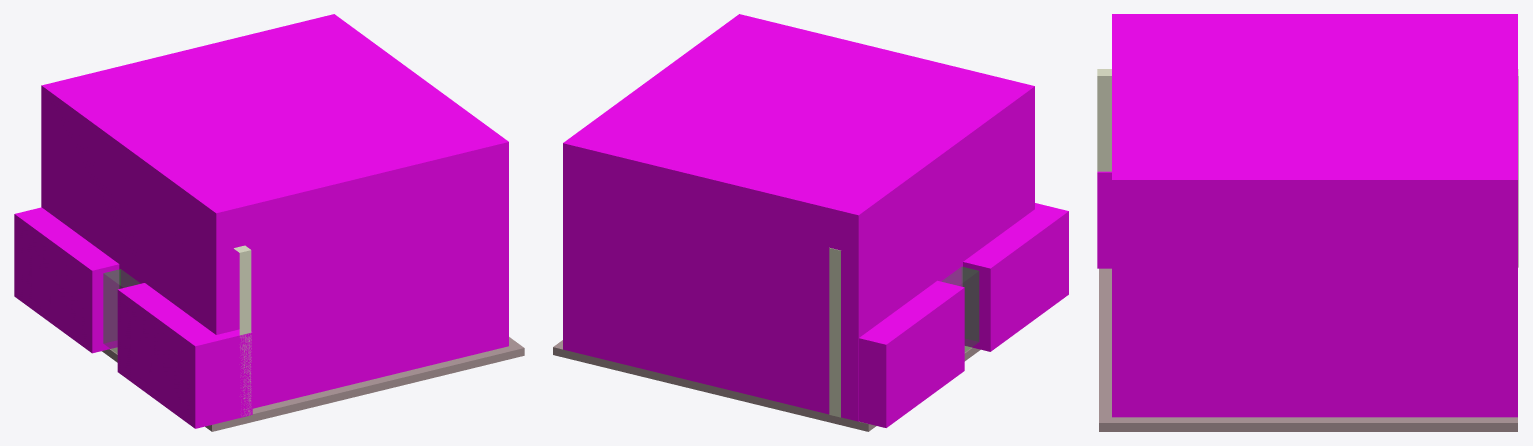
The model's file is demo2.glb.
The picture shows the model from 3 angles, left to right: view 1: azimuth 30°, elevation 25°; view 2: azimuth 150°, elevation 25°; view 3: azimuth 270°, elevation 25°; orthographic projection. The views are drawn at different scales.
Visible parts, largest first — view 1: WORLD_AABB, InvisibleWall, InvisibleWall.001, Ground, Wall, TriggerCube; view 2: WORLD_AABB, InvisibleWall.001, InvisibleWall, Ground, Wall, TriggerCube; view 3: WORLD_AABB, Ground, Wall, InvisibleWall.
Boxes of the visible parts, left/top/right/bottom form: WORLD_AABB: left=41, top=14, right=508, bottom=408; InvisibleWall: left=117, top=283, right=252, bottom=428; InvisibleWall.001: left=14, top=207, right=119, bottom=353; Ground: left=102, top=337, right=524, bottom=431; Wall: left=234, top=245, right=251, bottom=415; TriggerCube: left=103, top=269, right=139, bottom=352; WORLD_AABB: left=563, top=14, right=1034, bottom=421; InvisibleWall.001: left=859, top=280, right=964, bottom=427; InvisibleWall: left=963, top=203, right=1068, bottom=351; Ground: left=553, top=340, right=980, bottom=431; Wall: left=829, top=247, right=840, bottom=417; TriggerCube: left=942, top=267, right=978, bottom=351; WORLD_AABB: left=1112, top=14, right=1517, bottom=417; Ground: left=1099, top=268, right=1517, bottom=431; Wall: left=1097, top=69, right=1518, bottom=267; InvisibleWall: left=1097, top=171, right=1111, bottom=268.
Bounding box in the file's own units: 16.89 × 10.38 × 16.08.
